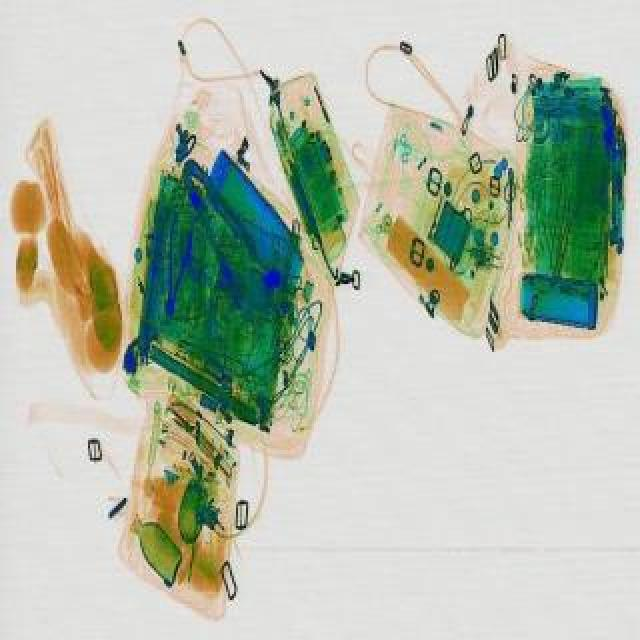wrench: (164, 156, 280, 312), (156, 216, 196, 322)
